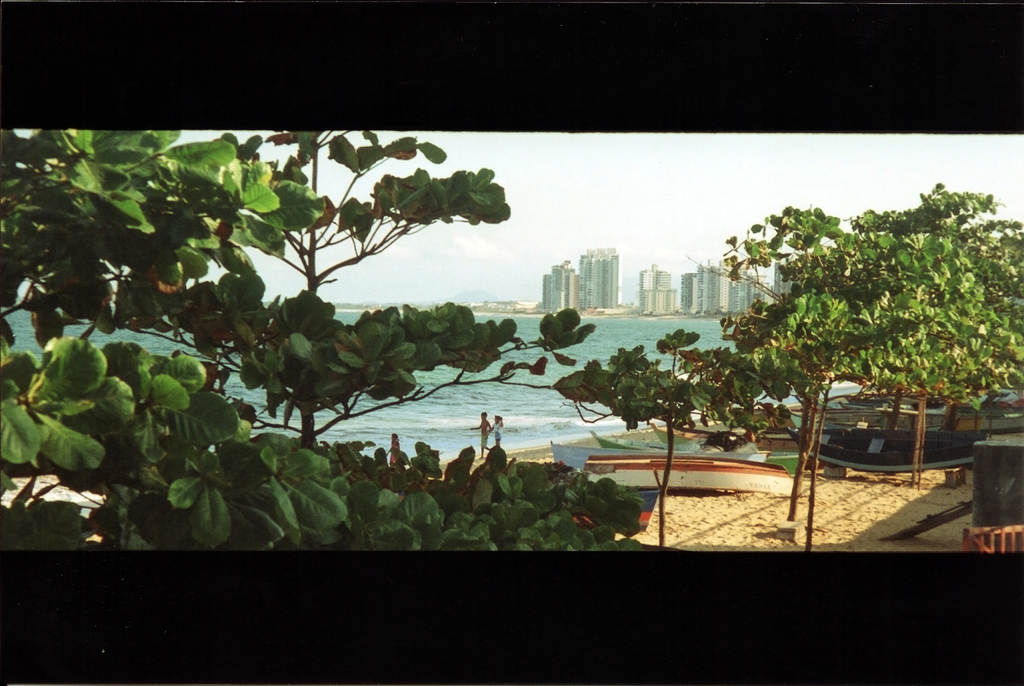Tree: (0, 124, 643, 558), (582, 180, 1023, 555)
